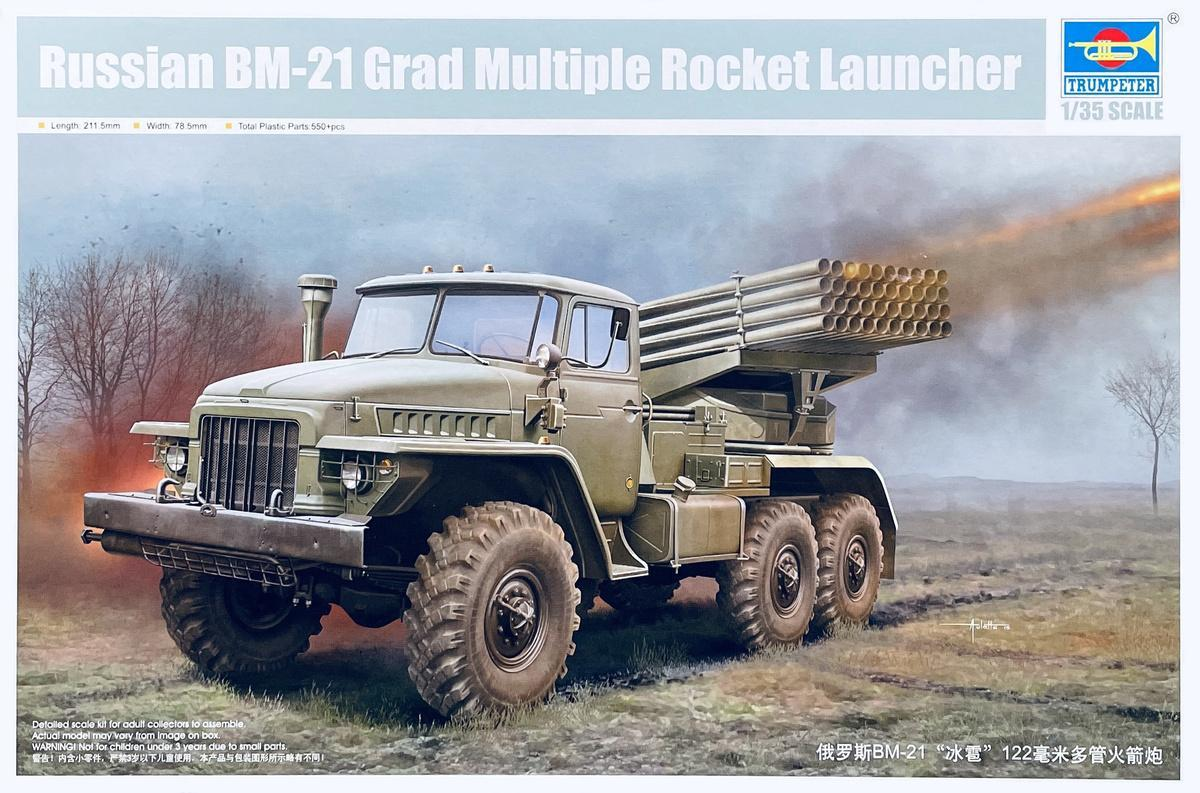rszo: (139, 231, 952, 678)
